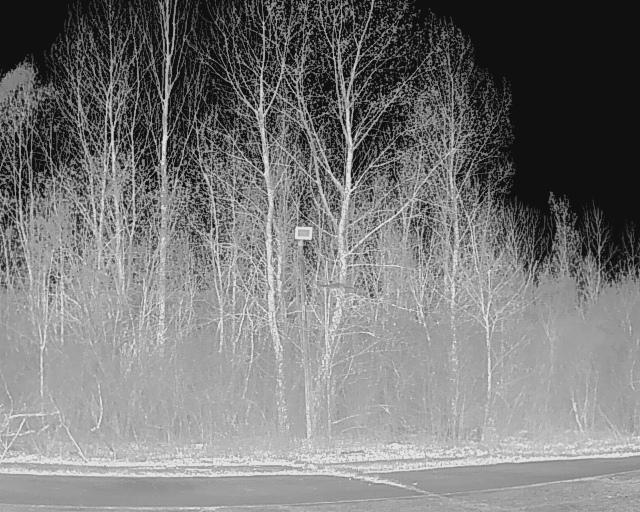drone: (304, 272, 358, 304)
